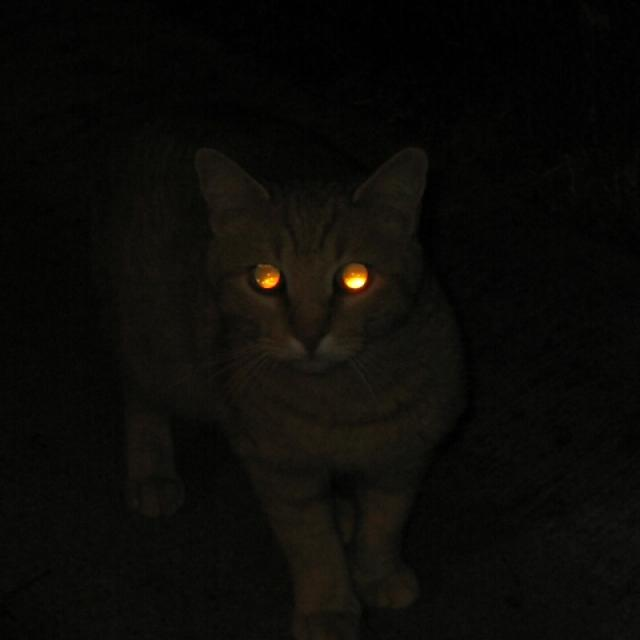Cat: (39, 35, 477, 632)
